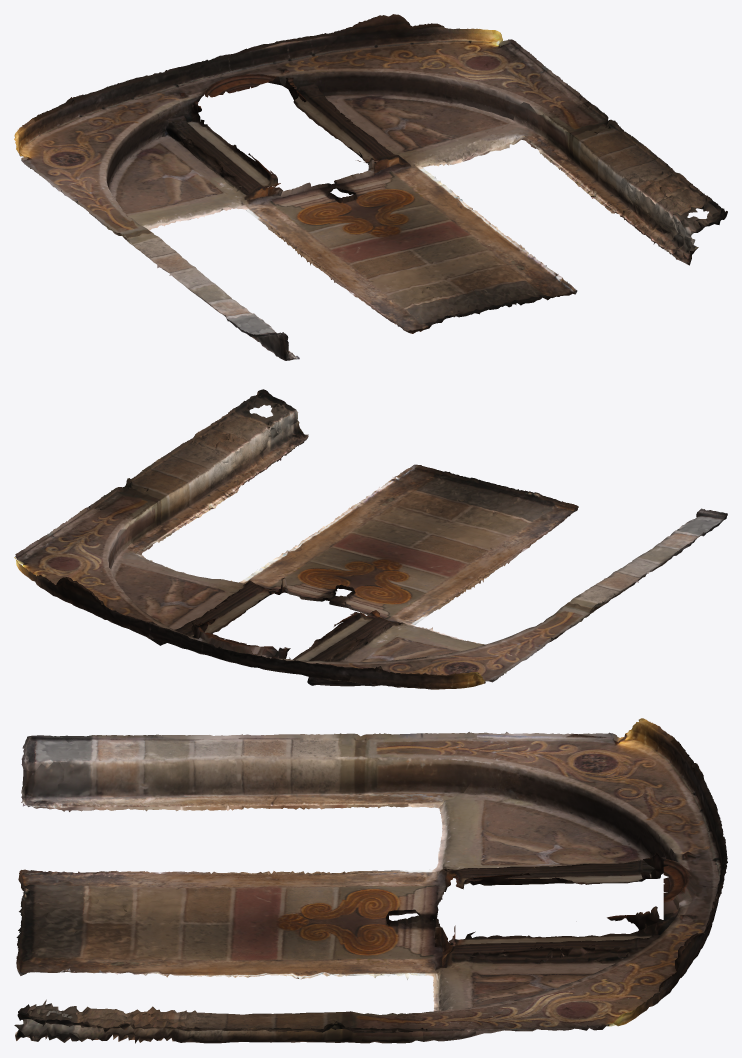
Rendered from wall.fbx.
The picture shows the model from 3 angles, top to bottom: view 1: azimuth 30°, elevation 25°; view 2: azimuth 150°, elevation 25°; view 3: azimuth 270°, elevation 25°; orthographic projection. The views are drawn at different scales.
Parts seen in each view (by area): view 1: Object_1; view 2: Object_1; view 3: Object_1.
Part boxes in pixels (x1,y1,x2,y2): Object_1: [14, 14, 727, 360]; Object_1: [14, 389, 727, 689]; Object_1: [14, 718, 727, 1043].
Size of the model in its own units: 11.54 by 11.55 by 1.52.
